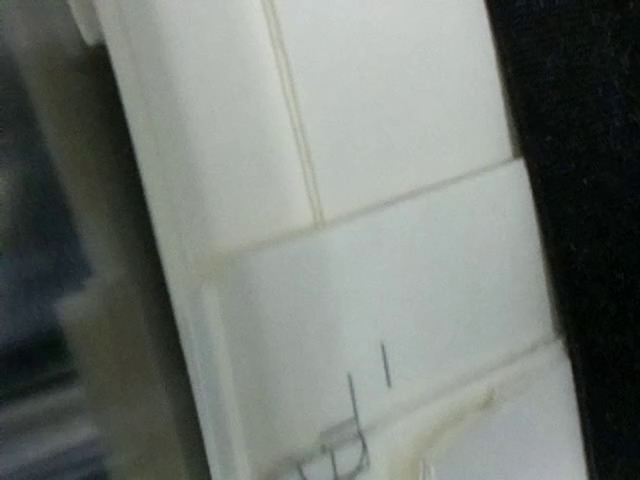misaligned: (257, 371, 373, 480)
